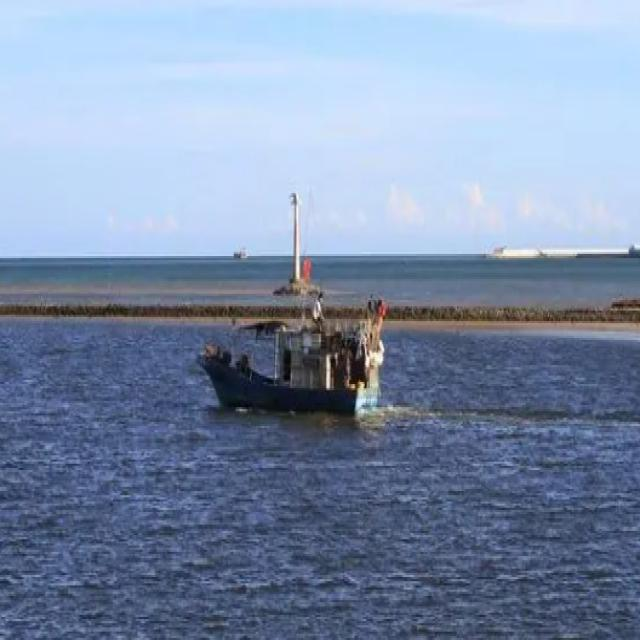fishing boat: (192, 296, 390, 418)
